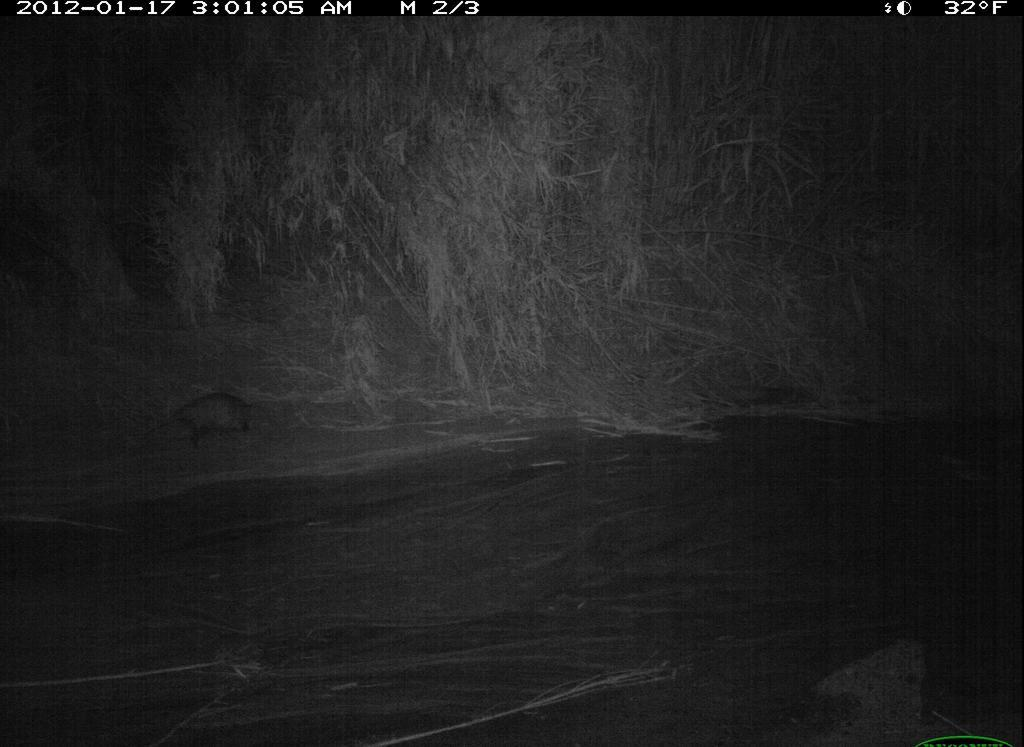opossum: (134, 386, 283, 449)
